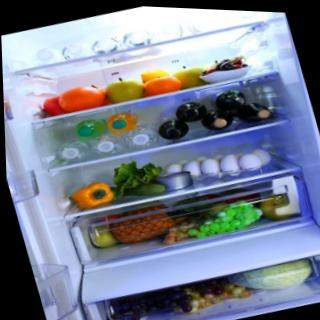Drinks: (89, 127, 129, 160), (54, 135, 95, 167), (122, 120, 158, 154)
Egg: (216, 151, 243, 174), (250, 143, 277, 165), (197, 155, 224, 177), (180, 156, 207, 178), (159, 157, 186, 179), (236, 149, 262, 171)
beverage: (67, 112, 110, 144), (103, 107, 141, 135)
fruit: (202, 197, 263, 234), (55, 82, 104, 113), (100, 74, 146, 107), (138, 70, 182, 98)
